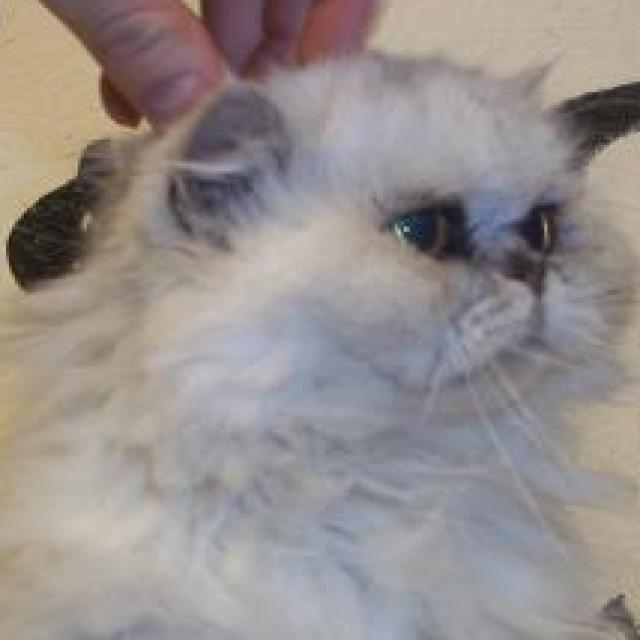Persian: (0, 47, 634, 640)
